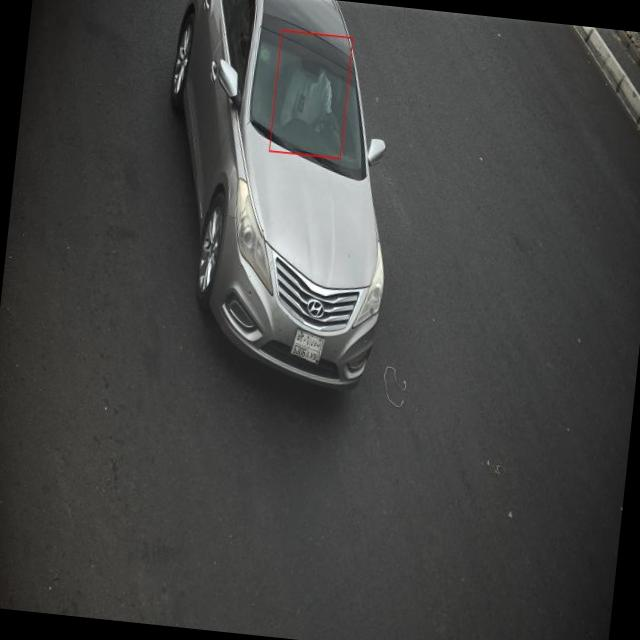person_without_seatbelt: (278, 34, 354, 144)
